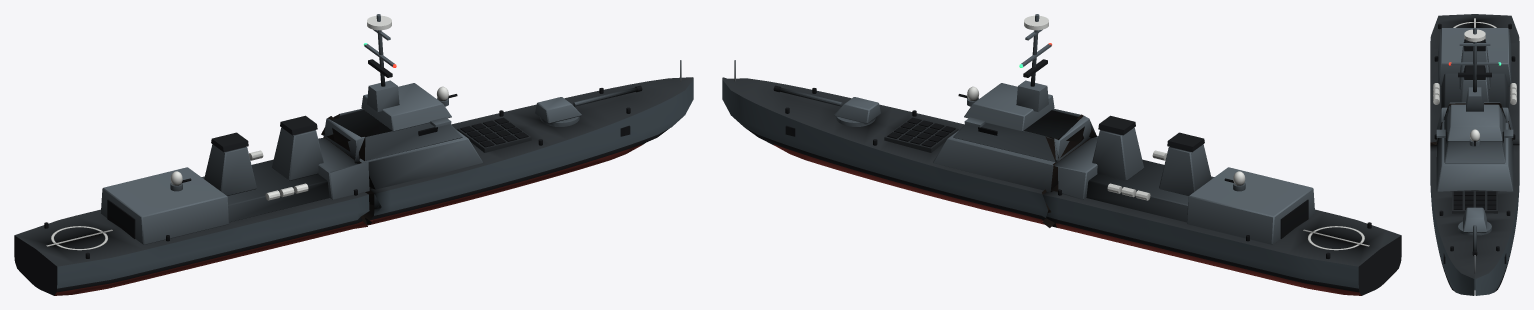
The model's file is destroyer_wreck.glb.
The picture shows the model from 3 angles, left to right: view 1: azimuth 30°, elevation 25°; view 2: azimuth 150°, elevation 25°; view 3: azimuth 270°, elevation 25°; orthographic projection. The views are drawn at different scales.
Parts seen in each view (by area): view 1: stern, bow, debris_funnel0, debris_funnel1, debris_bridge, debris_turret, debris_mast; view 2: stern, bow, debris_funnel0, debris_funnel1, debris_bridge, debris_turret, debris_mast; view 3: bow, stern, debris_bridge, debris_mast, debris_turret, debris_funnel0, debris_funnel1, debris_ciws_fwd, debris_rafts_p, debris_rafts_s.
Part boxes in pixels (<box>): stern: <box>14,116,369,295</box>; bow: <box>323,60,693,225</box>; debris_funnel0: <box>272,115,323,180</box>; debris_funnel1: <box>204,132,256,195</box>; debris_bridge: <box>361,83,451,131</box>; debris_turret: <box>535,85,642,123</box>; debris_mast: <box>363,14,396,86</box>; stern: <box>1043,114,1401,295</box>; bow: <box>722,60,1090,227</box>; debris_funnel0: <box>1092,115,1143,180</box>; debris_funnel1: <box>1159,132,1211,195</box>; debris_bridge: <box>964,83,1054,131</box>; debris_turret: <box>773,85,880,123</box>; debris_mast: <box>1019,14,1052,86</box>; bow: <box>1430,87,1519,295</box>; stern: <box>1430,14,1519,145</box>; debris_bridge: <box>1447,104,1502,141</box>; debris_mast: <box>1448,27,1501,92</box>; debris_turret: <box>1463,207,1486,255</box>; debris_funnel0: <box>1460,65,1489,102</box>; debris_funnel1: <box>1459,39,1490,89</box>; debris_ciws_fwd: <box>1469,129,1480,146</box>; debris_rafts_p: <box>1433,83,1439,104</box>; debris_rafts_s: <box>1510,83,1516,104</box>.
Bounding box in the file's own units: 4.2 × 1.21 × 0.58.
